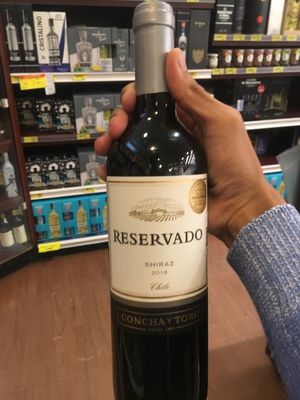reservado shiraz: (90, 12, 220, 399)
